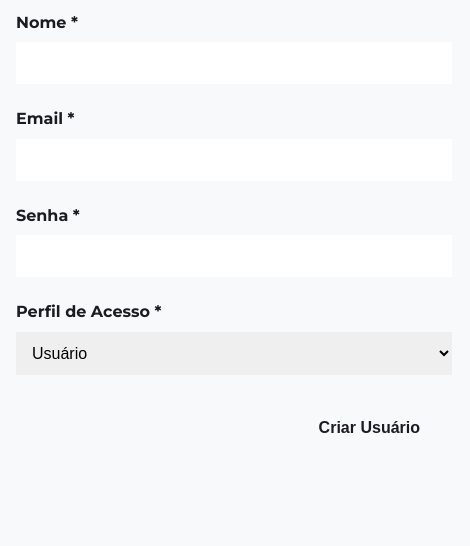
Test case: UserForm › should show validation errors for empty fields
Click the button "Criar Usuário" at (369, 428), box [287,407,452,449]
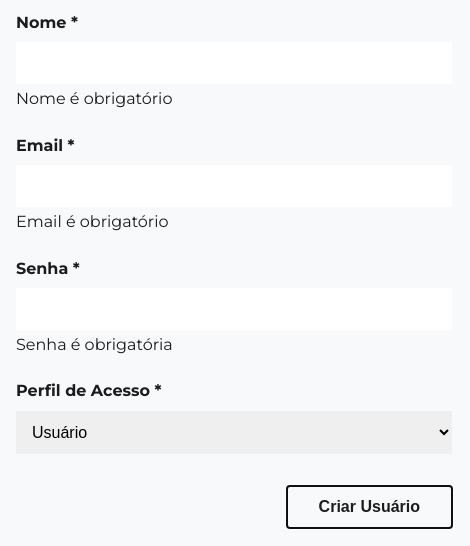
Expected: the text "Nome é obrigatório" is shown, [16,89,172,108]
Expected: the text "Email é obrigatório" is shown, [16,212,168,231]
Expected: the text "Senha é obrigatória" is shown, [16,335,173,354]
